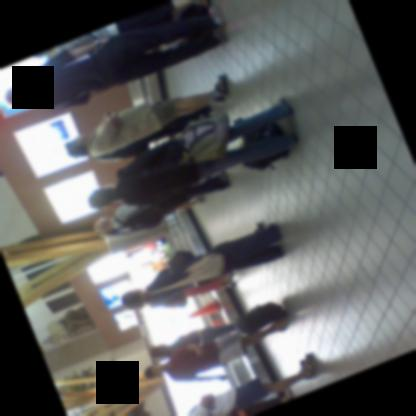backpack: (94, 135, 150, 158), (116, 209, 162, 230)
handbag: (114, 110, 230, 180), (140, 251, 225, 294), (241, 121, 289, 169), (77, 32, 102, 54), (198, 330, 214, 343)
suitcase: (200, 299, 289, 352), (232, 116, 283, 169), (176, 27, 212, 56)
